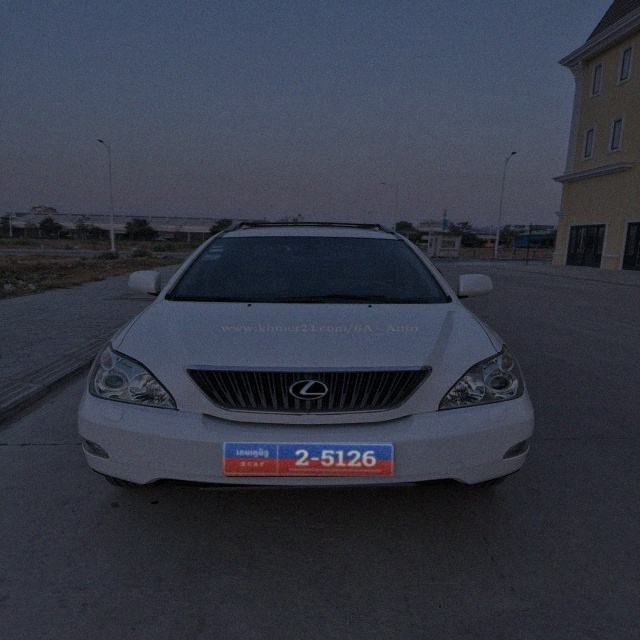Plate Number: (223, 443, 394, 476)
